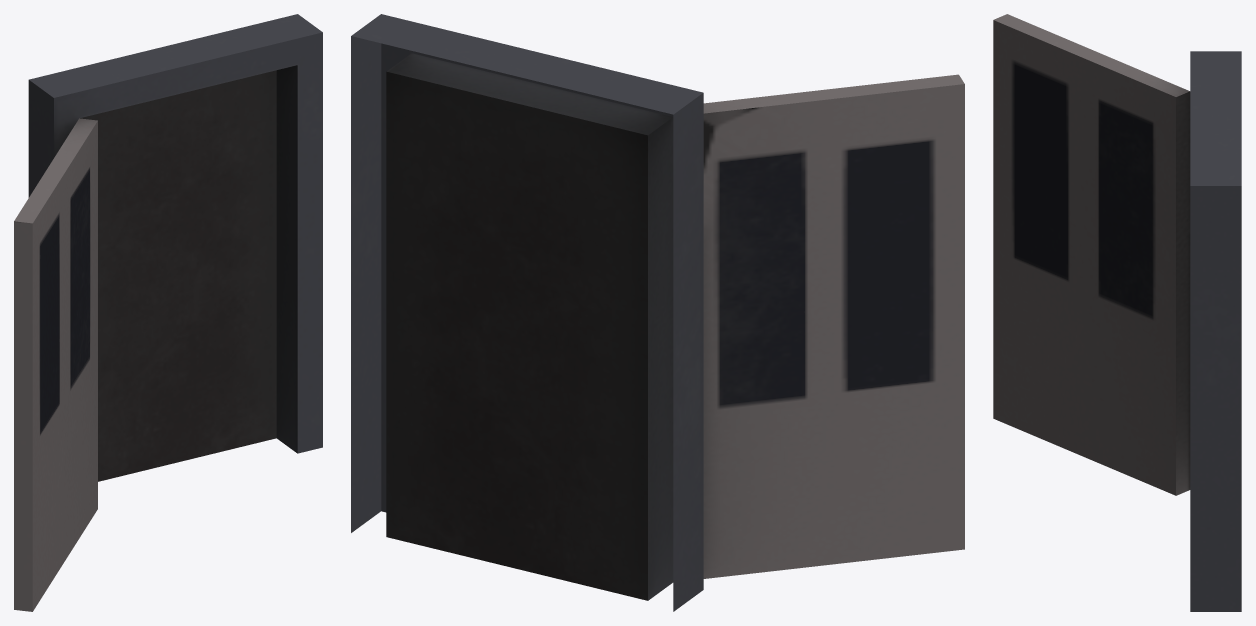
Rendered from Door.fbx.
The picture shows the model from 3 angles, left to right: view 1: azimuth 30°, elevation 25°; view 2: azimuth 150°, elevation 25°; view 3: azimuth 270°, elevation 25°; orthographic projection. The views are drawn at different scales.
Visible parts, largest first — view 1: Door; view 2: Door; view 3: Door.
Part boxes in pixels (box(x1,y1,x2,y2)): Door: box(14, 14, 322, 611); Door: box(351, 14, 964, 611); Door: box(993, 14, 1241, 611).
Size of the model in its own units: 150 by 149 by 78.79.
